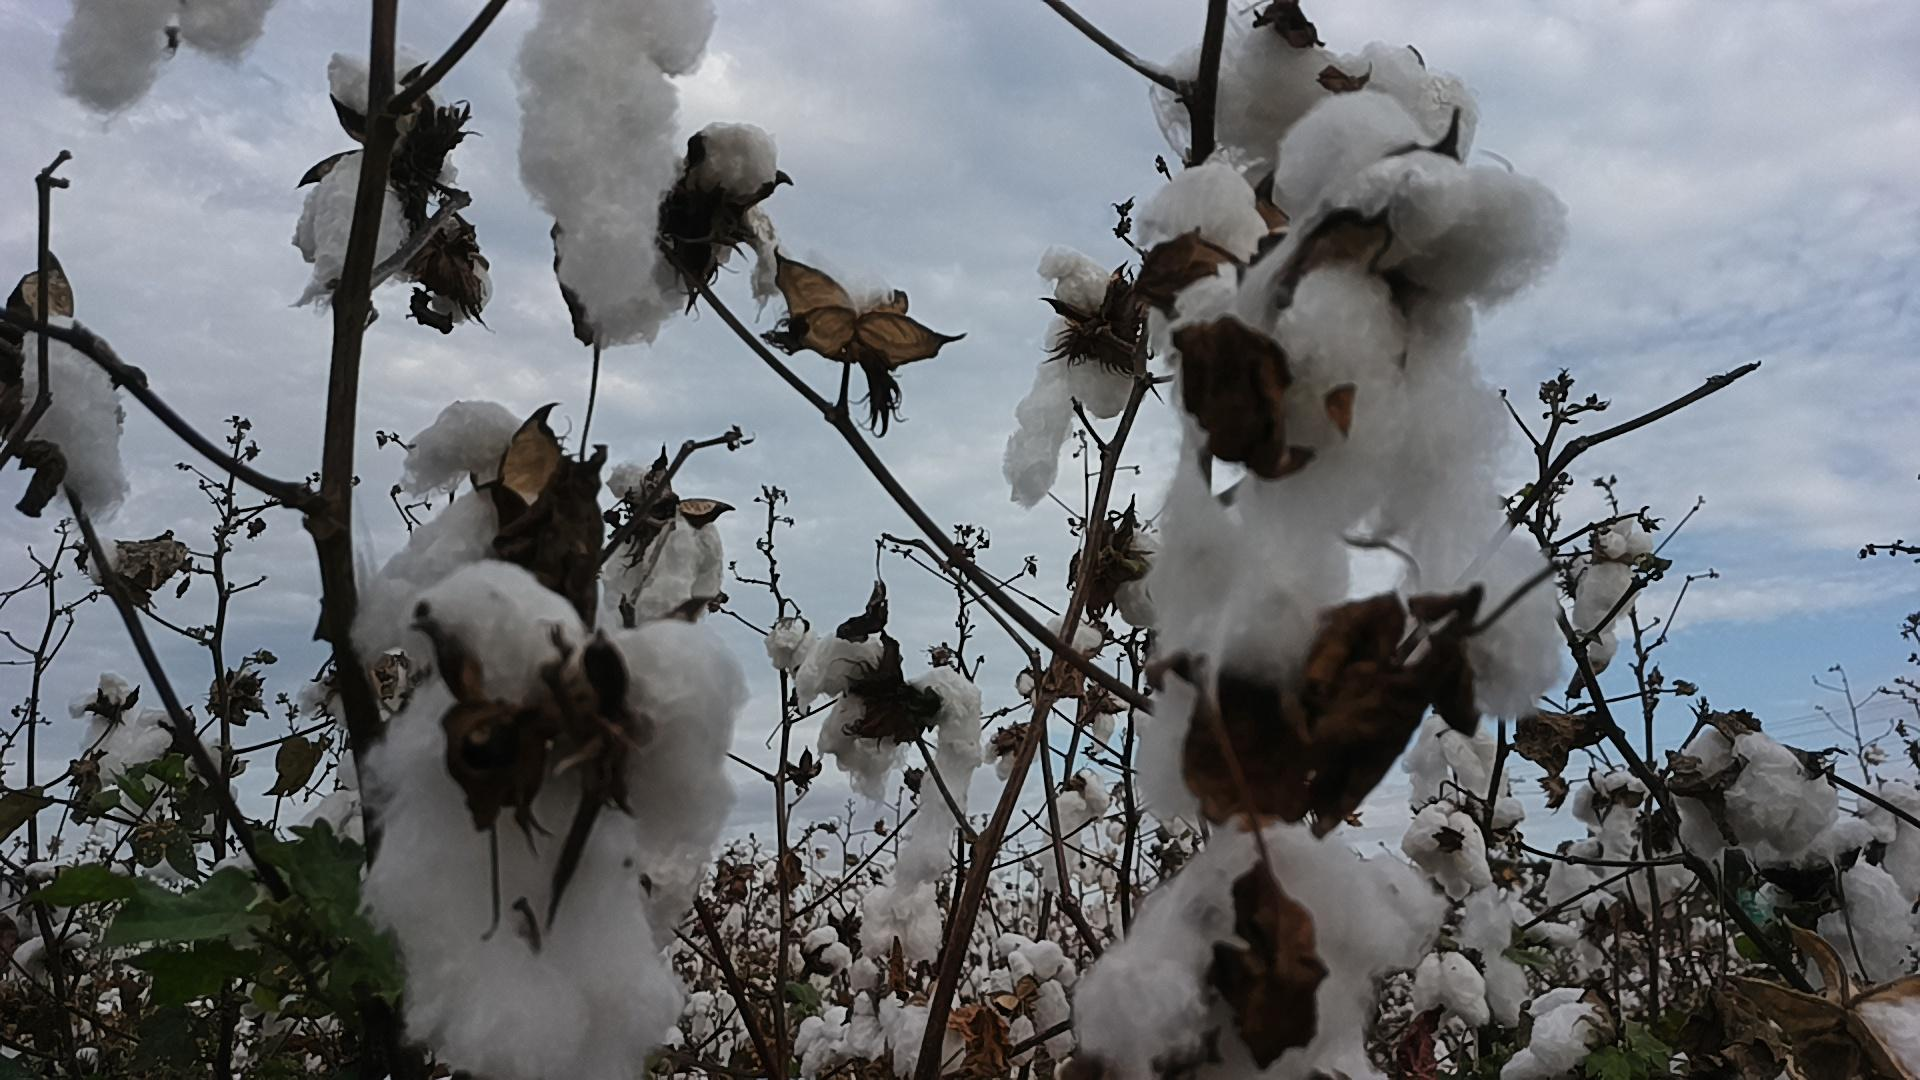cotton_ready: (1158, 148, 1571, 709), (368, 558, 750, 1080), (1077, 836, 1433, 1080), (512, 0, 717, 323), (798, 633, 984, 891), (287, 46, 463, 311), (1007, 245, 1178, 513), (1155, 28, 1487, 161), (353, 406, 533, 644), (1743, 815, 1917, 988), (1135, 148, 1269, 363), (0, 311, 133, 524), (54, 0, 273, 123), (1673, 716, 1844, 857), (596, 455, 728, 629), (1274, 95, 1440, 223), (1402, 711, 1520, 824), (1569, 518, 1654, 676), (1499, 982, 1618, 1080), (694, 117, 783, 227), (84, 705, 198, 783), (1811, 1004, 1920, 1080), (1088, 524, 1166, 626), (856, 882, 945, 957), (887, 1001, 968, 1080)
